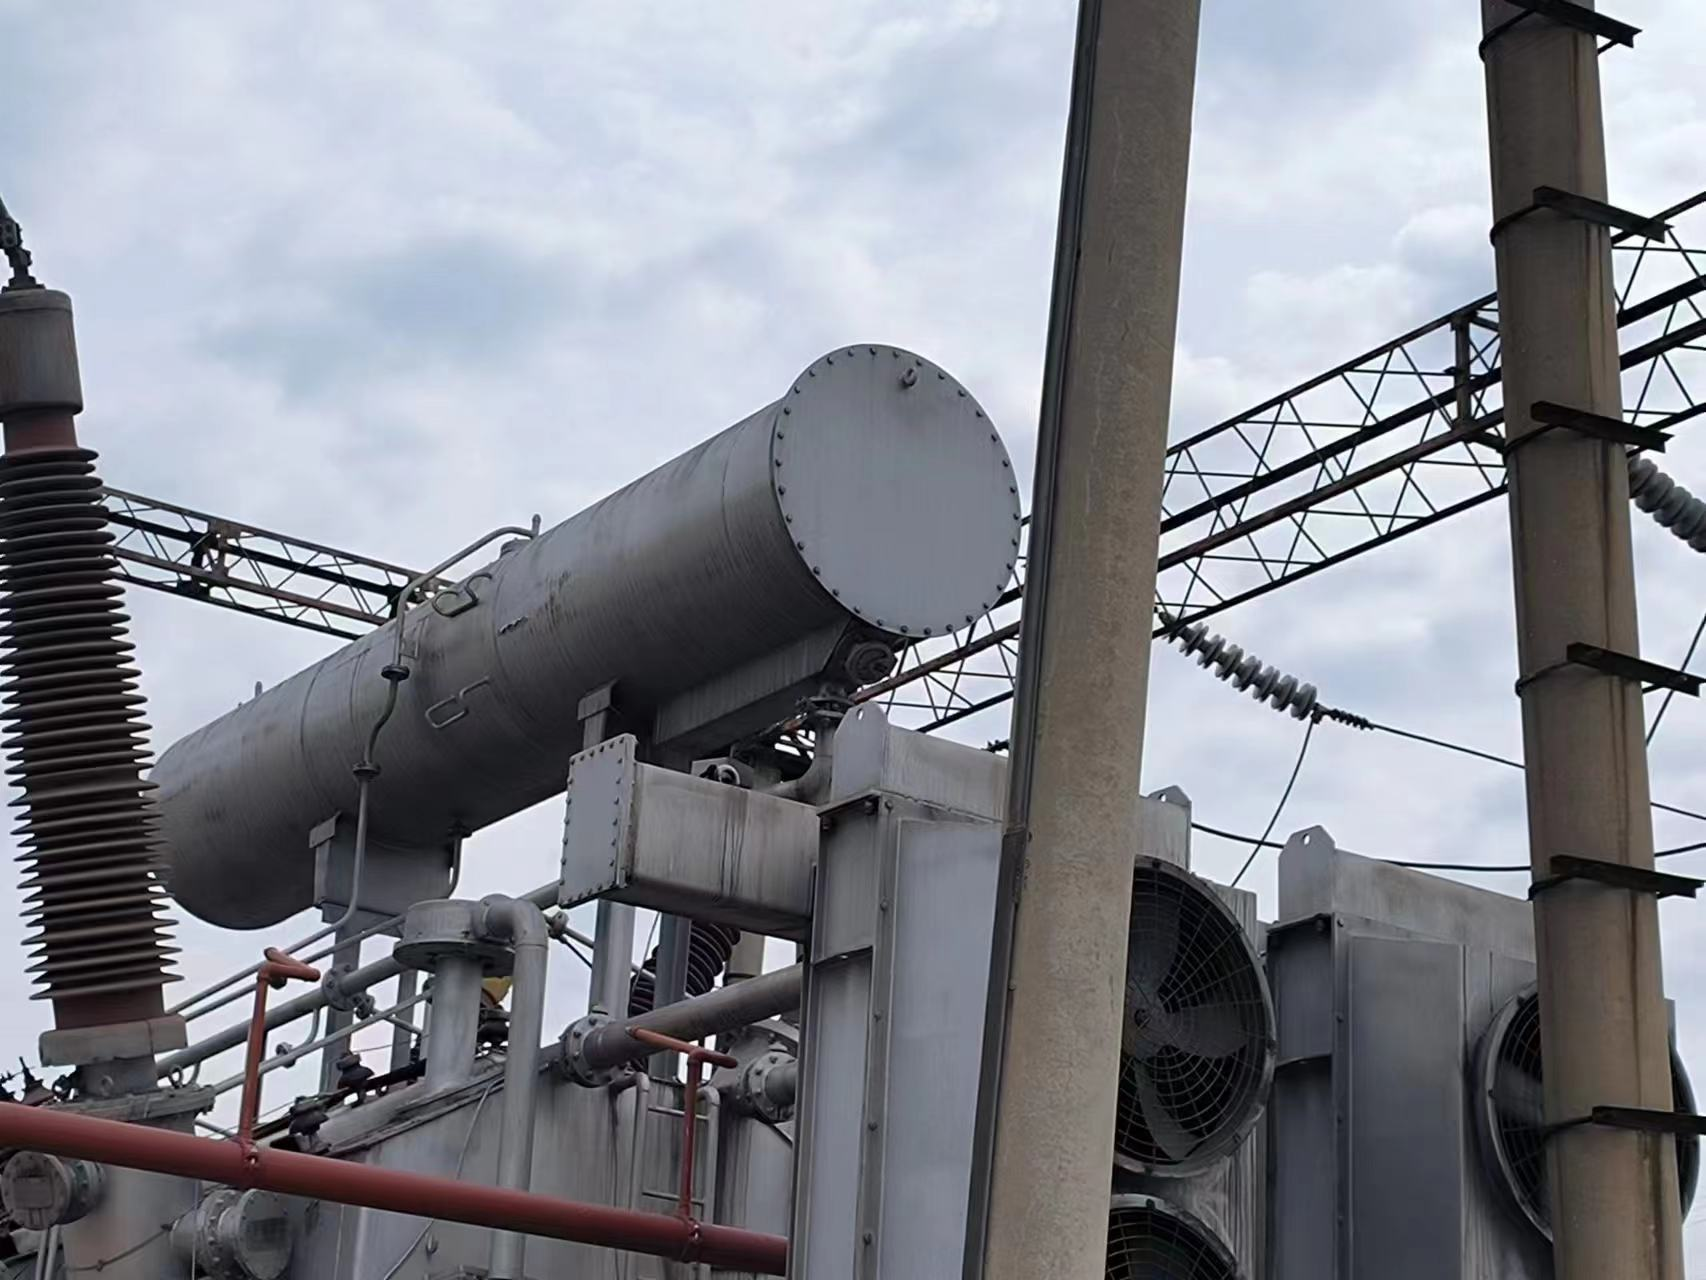Conservator: (144, 335, 1023, 961)
